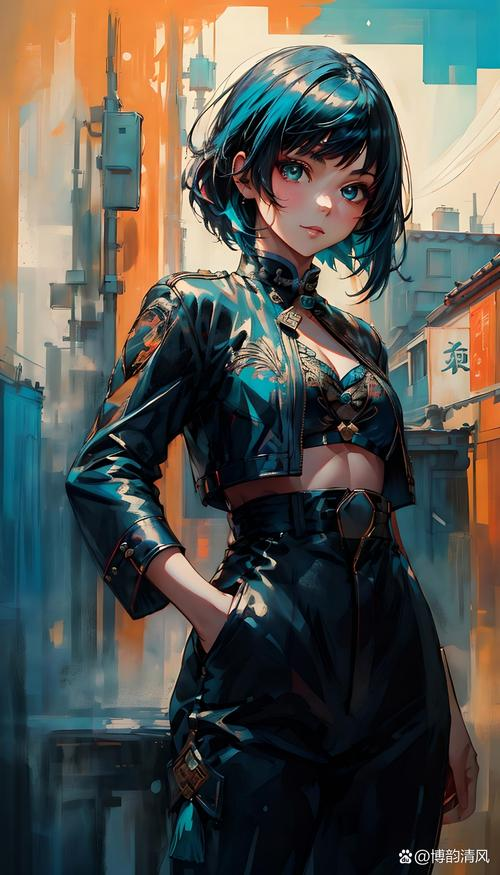夜兰: (68, 41, 480, 875)
